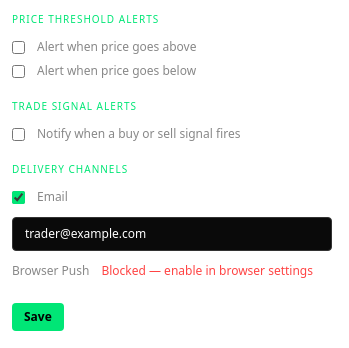
Test: AlertSettings › hides email input when email toggle is unchecked
The width and height of the screenshot is (349, 348).
Expected: the field with test id "email-input" is shown, [12, 217, 332, 251]
Click the checkbox with test id "email-toggle": (18, 197) [12, 190, 25, 204]
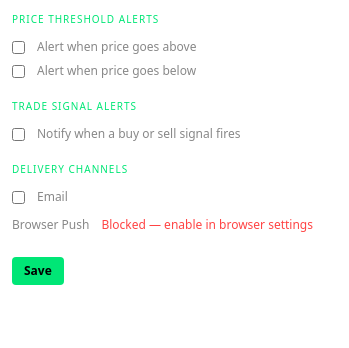
Expected: the field with test id "email-input" is gone
